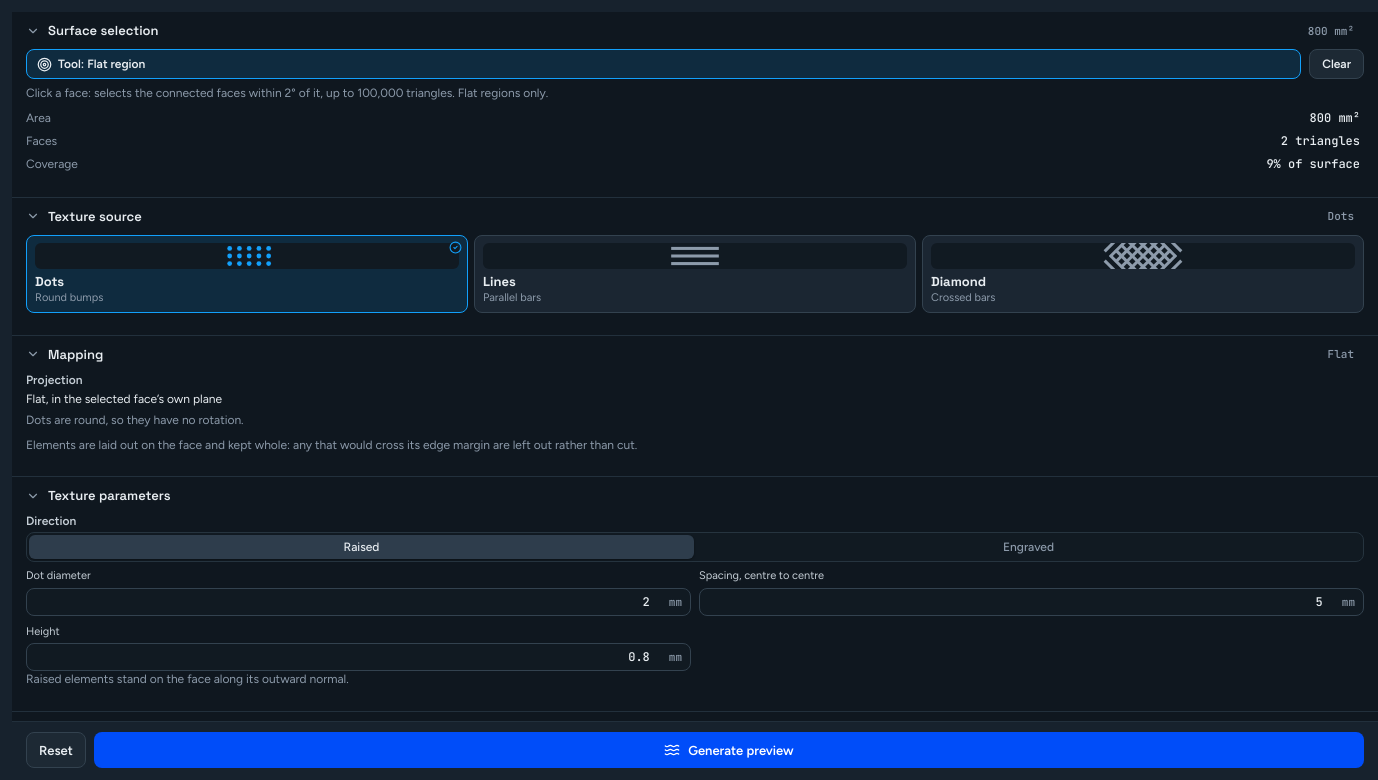
it: texture source, mapping and parameters › states a rule the engine would refuse, and holds the action
Replace the text in the number field with test id "texture-spacing" with "1". click: (1023, 602)
box: left=708, top=589, right=1338, bottom=615
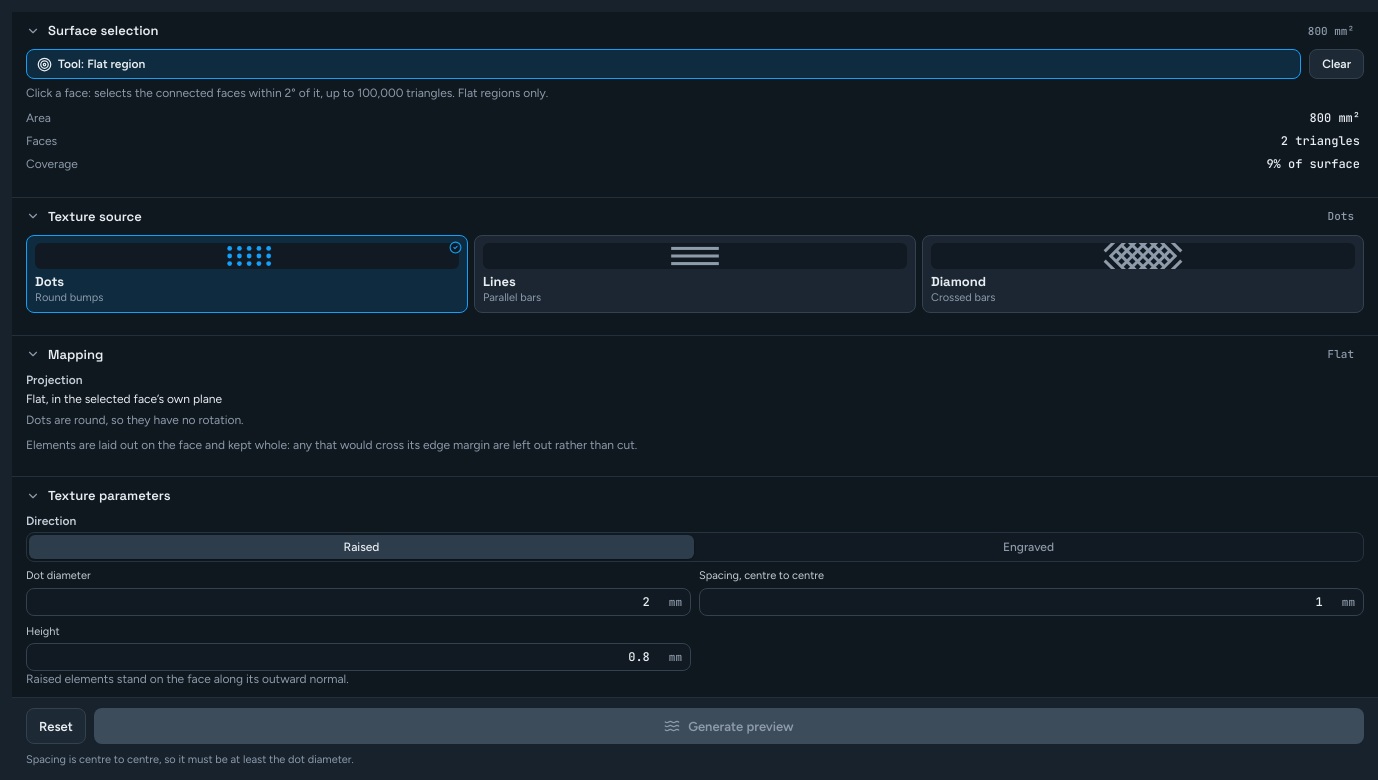
Check: the message with test id "texture-settings-problem" shows "centre to centre", box left=37, top=702, right=395, bottom=716
Check: the button with test id "texture-generate" is disabled, box left=94, top=709, right=1364, bottom=745
